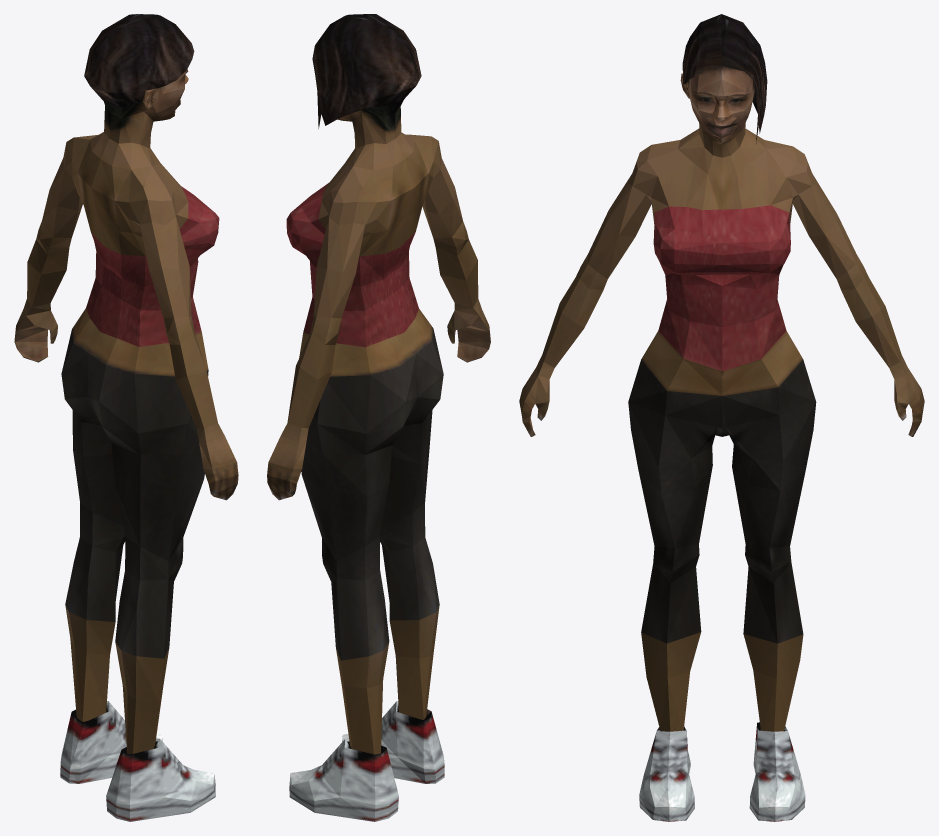
The model's file is copgrl3.obj.
The picture shows the model from 3 angles, left to right: view 1: azimuth 30°, elevation 25°; view 2: azimuth 150°, elevation 25°; view 3: azimuth 270°, elevation 25°; orthographic projection.
Parts seen in each view (by area): view 1: _Pelvis; view 2: _Pelvis; view 3: _Pelvis.
Part boxes in pixels (box(x1,y1,x2,y2)): _Pelvis: box(14, 14, 238, 821); _Pelvis: box(267, 14, 490, 821); _Pelvis: box(519, 14, 924, 821).
Bounding box in the file's own units: 0.2908 × 1.82 × 0.8559.
Materials: 1 (1 with a texture image).
